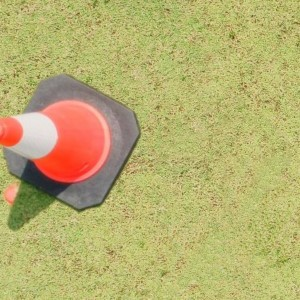traffic cone: (1, 1, 300, 298)
